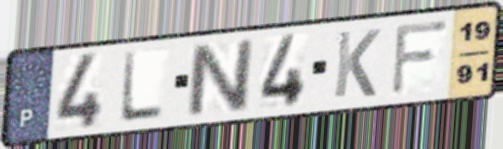4: (53, 50, 106, 133), (256, 31, 308, 110)
F: (388, 17, 451, 99)
K: (330, 27, 383, 101)
L: (117, 49, 167, 125)
N: (186, 37, 255, 119)
